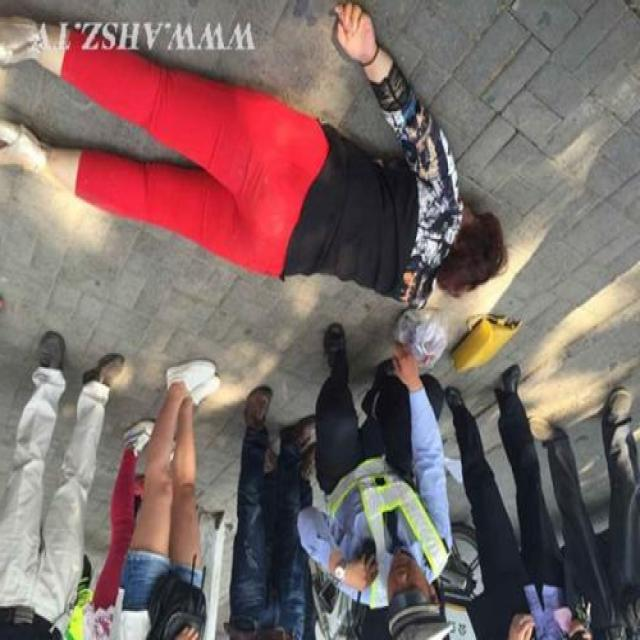nofight: (11, 34, 513, 324), (444, 368, 598, 640), (311, 324, 447, 624), (122, 359, 214, 640)
